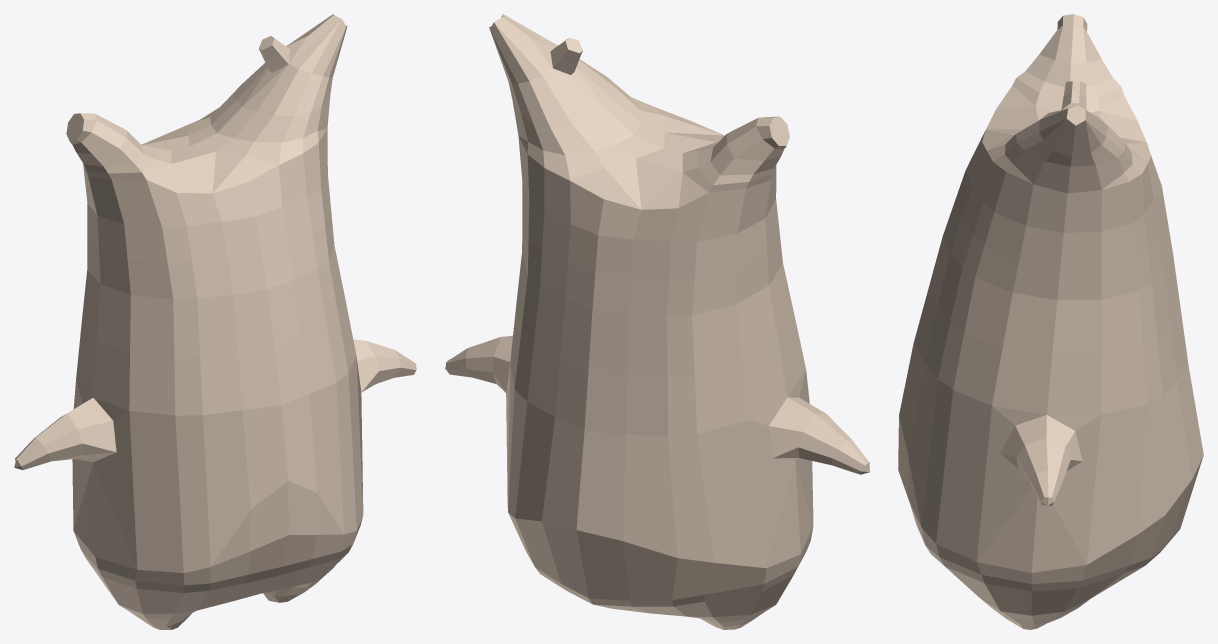
File: frame_0023.obj
3 renders of one model, left to right at view 1: azimuth 30°, elevation 25°; view 2: azimuth 150°, elevation 25°; view 3: azimuth 270°, elevation 25°, orthographic. The views are drawn at different scales.
Visible parts, largest first — view 1: korok; view 2: korok; view 3: korok.
Boxes of the visible parts, bbox=[...] form: korok: bbox=[14, 14, 416, 629]; korok: bbox=[445, 14, 869, 629]; korok: bbox=[898, 14, 1203, 629].
Bounding box in the file's own units: 1.64 × 2.15 × 1.06.
